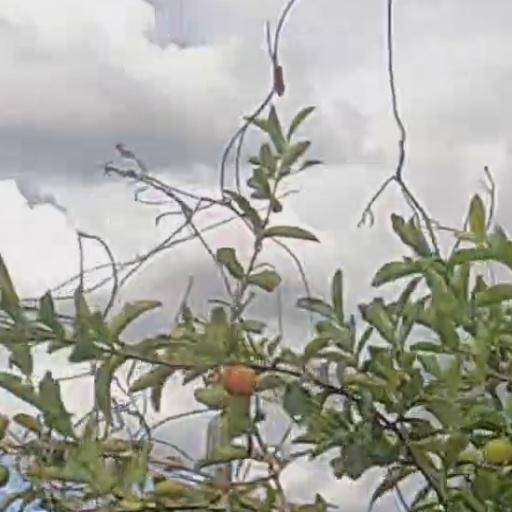acerola_vermelha: (224, 365, 257, 398)
